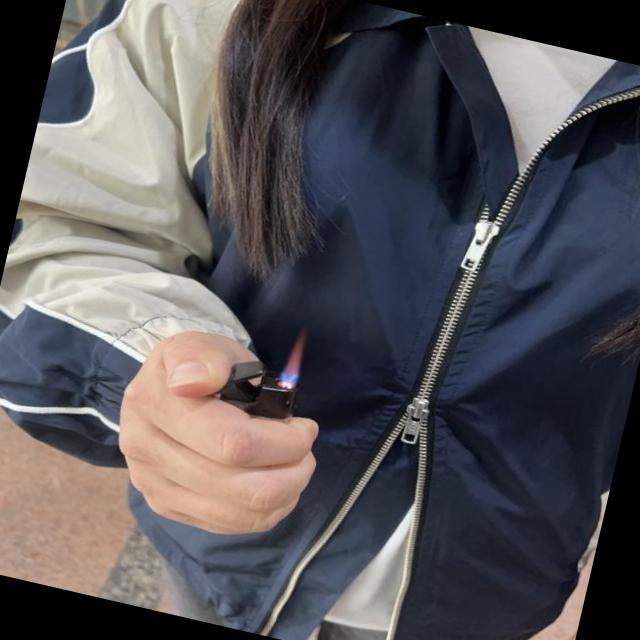Fire: (278, 326, 308, 390)
